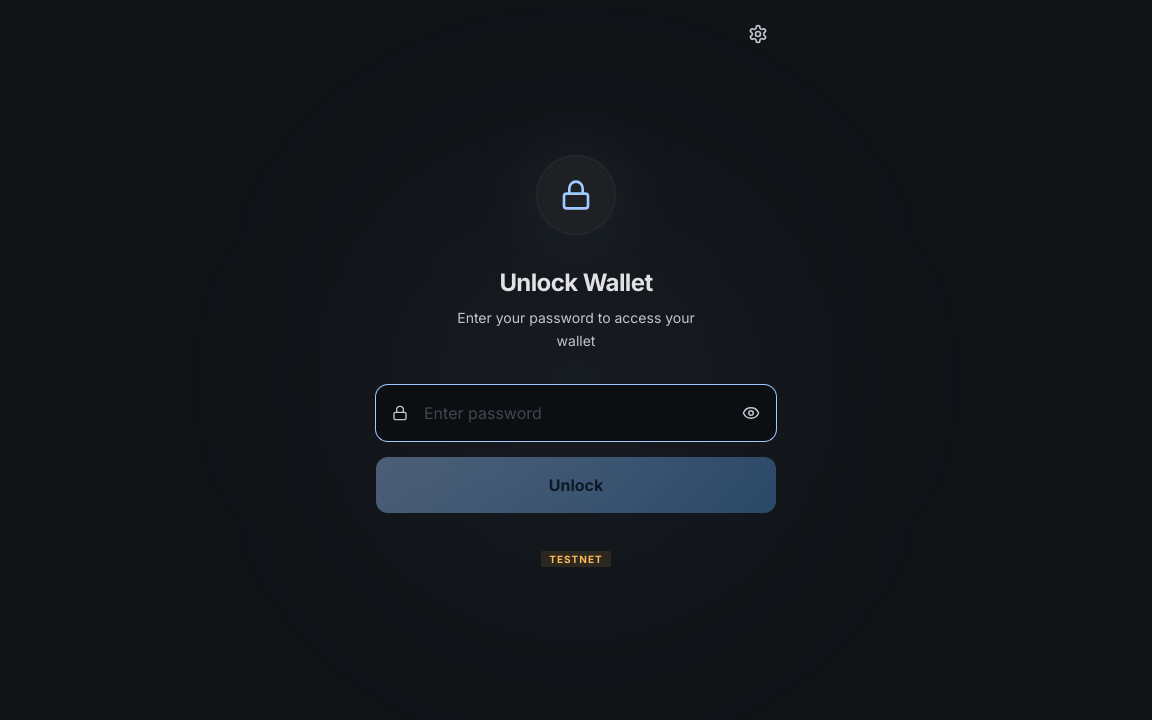
Test case: UnlockModal › cancel button closes confirmation dialog
This screenshot has width=1152, height=720.
Click the button named "wallet options" at (758, 34), box [740,16,776,52]
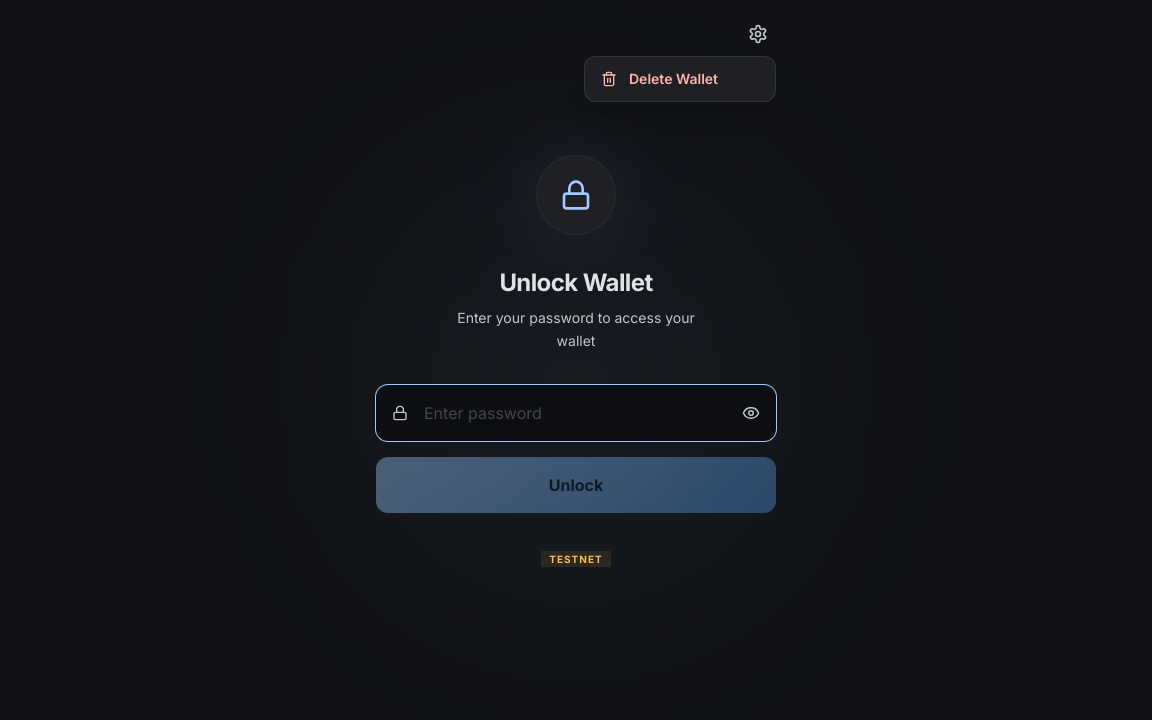
Click the button "Delete Wallet" at (680, 79), box [585,57,775,101]
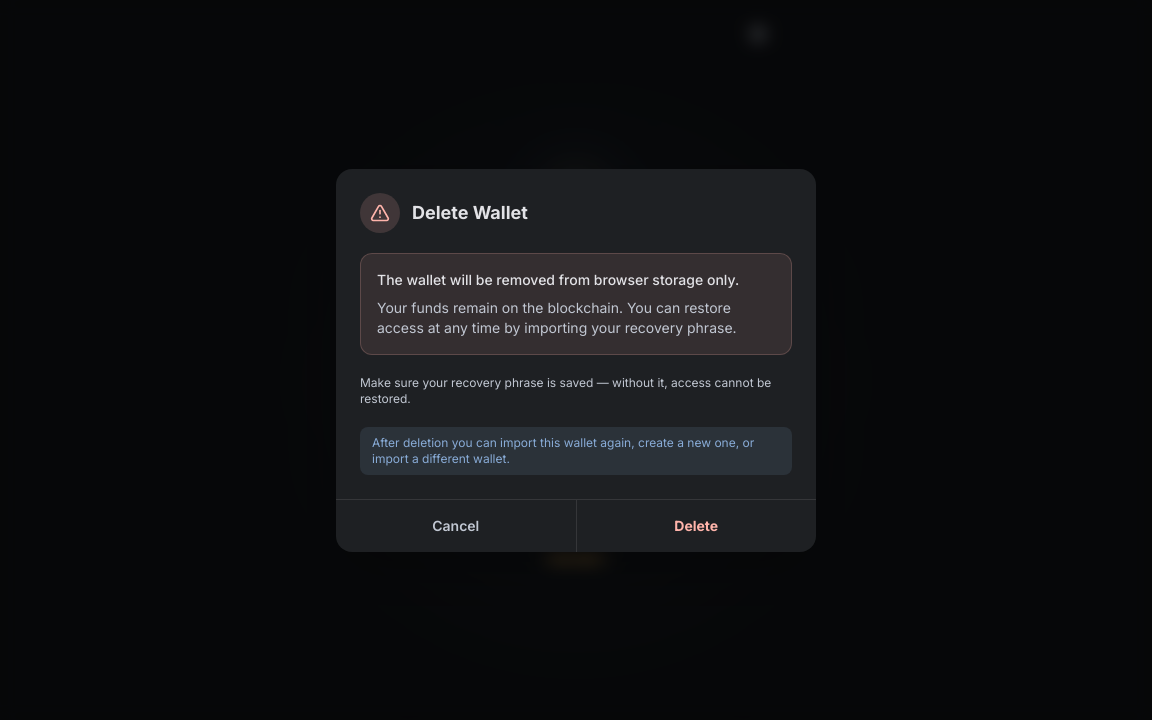
Click the button "Cancel" at (456, 526), box [336,500,576,552]
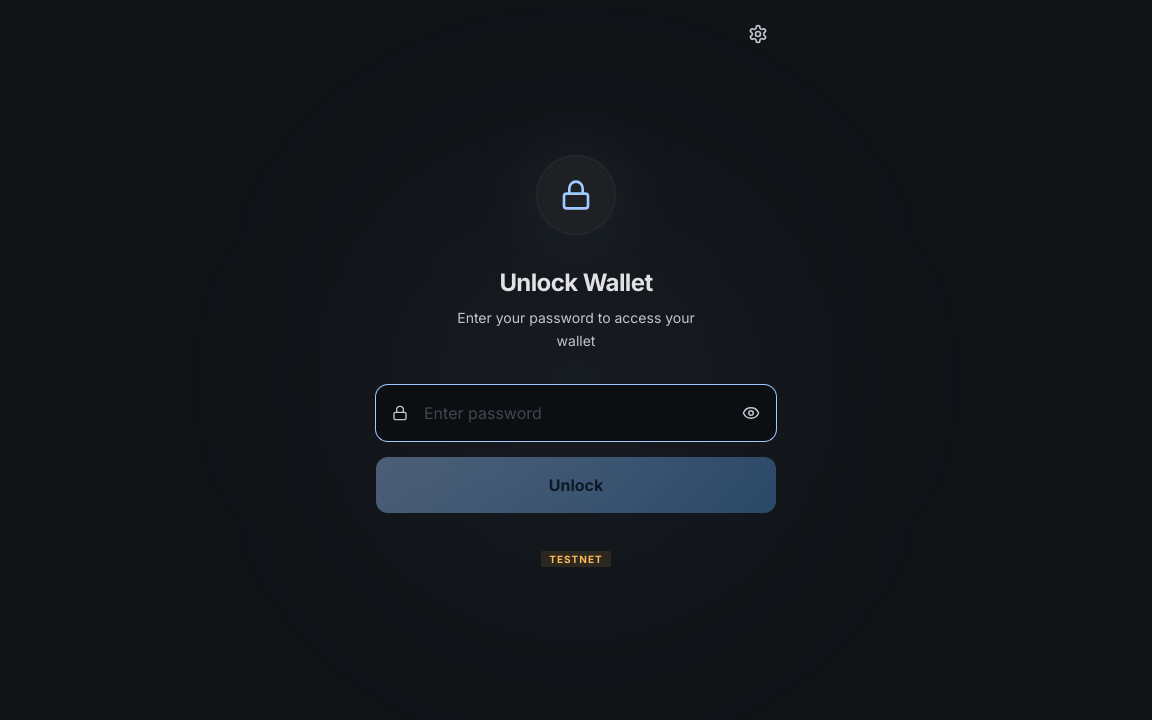
Expected: the text "The wallet will be removed from browser storage only." is gone
